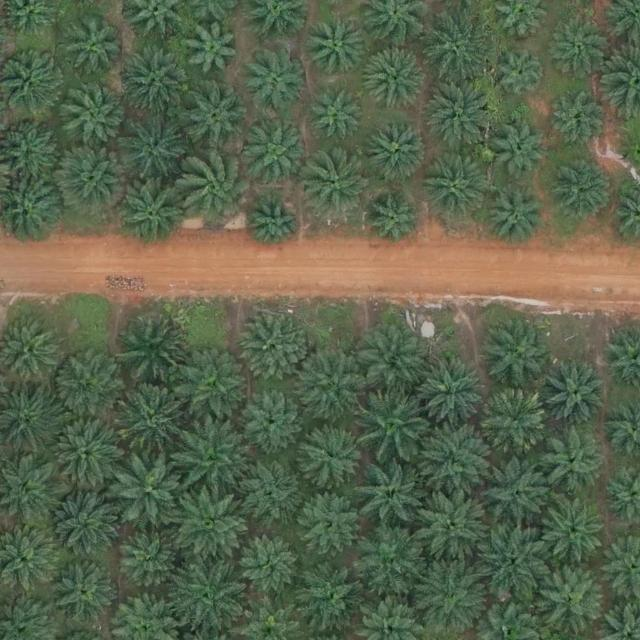Kelapa_Sawit: (177, 151, 255, 229), (534, 429, 604, 500), (480, 456, 550, 527), (481, 316, 551, 387), (417, 356, 487, 427), (417, 487, 487, 558), (354, 525, 424, 596), (298, 350, 368, 421), (177, 488, 247, 559), (113, 453, 183, 524), (418, 151, 488, 222), (533, 560, 603, 630), (476, 521, 546, 591), (479, 387, 549, 457), (415, 427, 485, 497), (413, 561, 483, 631), (355, 459, 425, 529), (359, 388, 429, 458), (357, 326, 427, 396), (295, 559, 365, 629), (232, 456, 302, 526), (238, 314, 308, 384), (174, 352, 244, 422), (176, 424, 246, 494), (173, 561, 243, 631), (119, 312, 189, 382), (115, 381, 185, 451), (51, 349, 121, 419), (52, 414, 122, 484), (48, 492, 118, 562), (47, 559, 117, 629), (420, 12, 490, 82), (425, 82, 495, 152), (303, 149, 373, 219), (177, 81, 247, 151), (117, 49, 187, 119), (117, 112, 187, 182), (115, 179, 185, 249), (58, 146, 128, 216), (542, 364, 604, 427), (541, 501, 603, 564), (300, 422, 362, 485), (235, 530, 297, 593), (239, 385, 301, 448), (550, 159, 612, 222), (484, 187, 546, 250), (366, 119, 428, 182), (304, 16, 366, 79), (242, 47, 304, 110), (61, 85, 123, 148), (299, 491, 361, 553), (116, 527, 178, 589), (365, 45, 427, 107), (245, 124, 307, 186), (551, 19, 606, 74), (492, 47, 547, 102), (367, 196, 422, 251), (550, 91, 604, 146), (492, 120, 546, 175), (312, 88, 366, 143), (246, 196, 300, 251), (184, 23, 238, 78), (66, 20, 120, 75)
